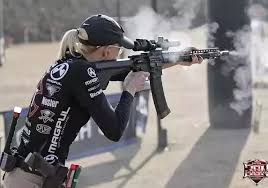Gun: (130, 34, 233, 78)
